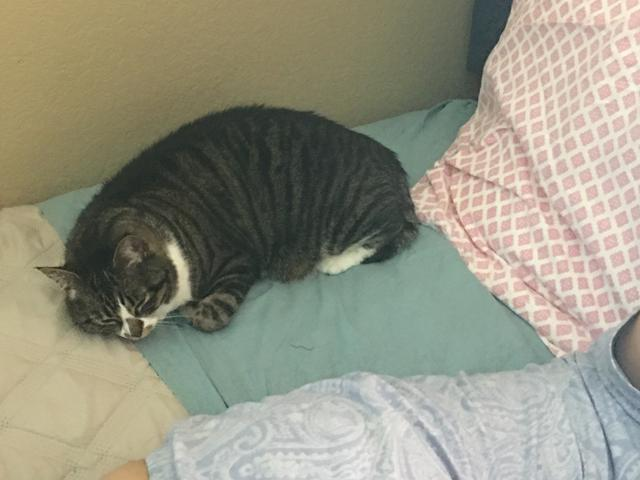playdoh: (36, 104, 422, 343)
